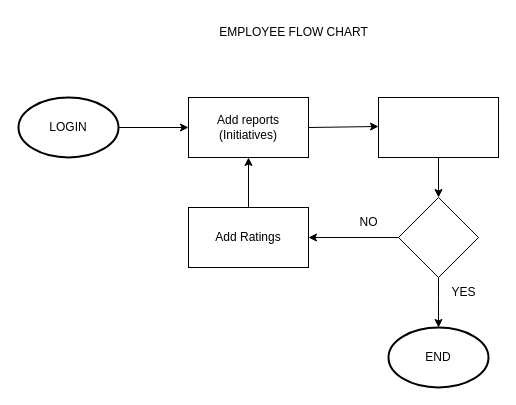
Image size: 516x405. Some labels were removed from this diagram. Each missing label, with the centre of its shape:
"Officer satisfied?" goes at point (438, 237).
"View Score" goes at point (438, 127).
